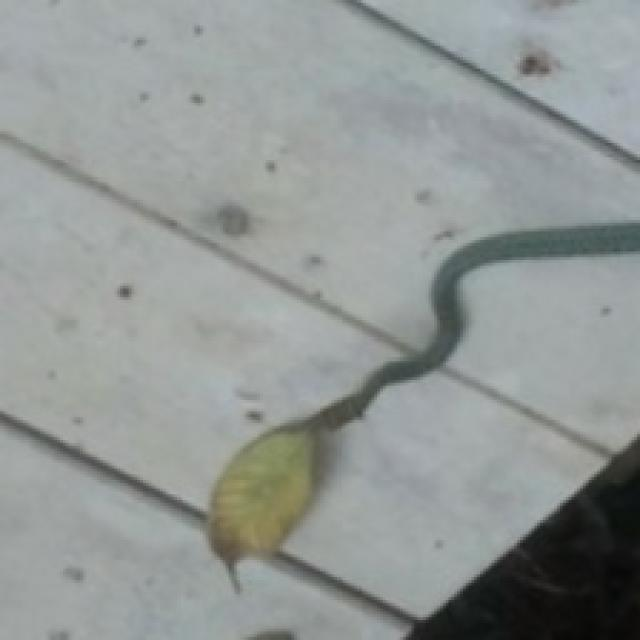paradise tree snake: (274, 223, 640, 432)
